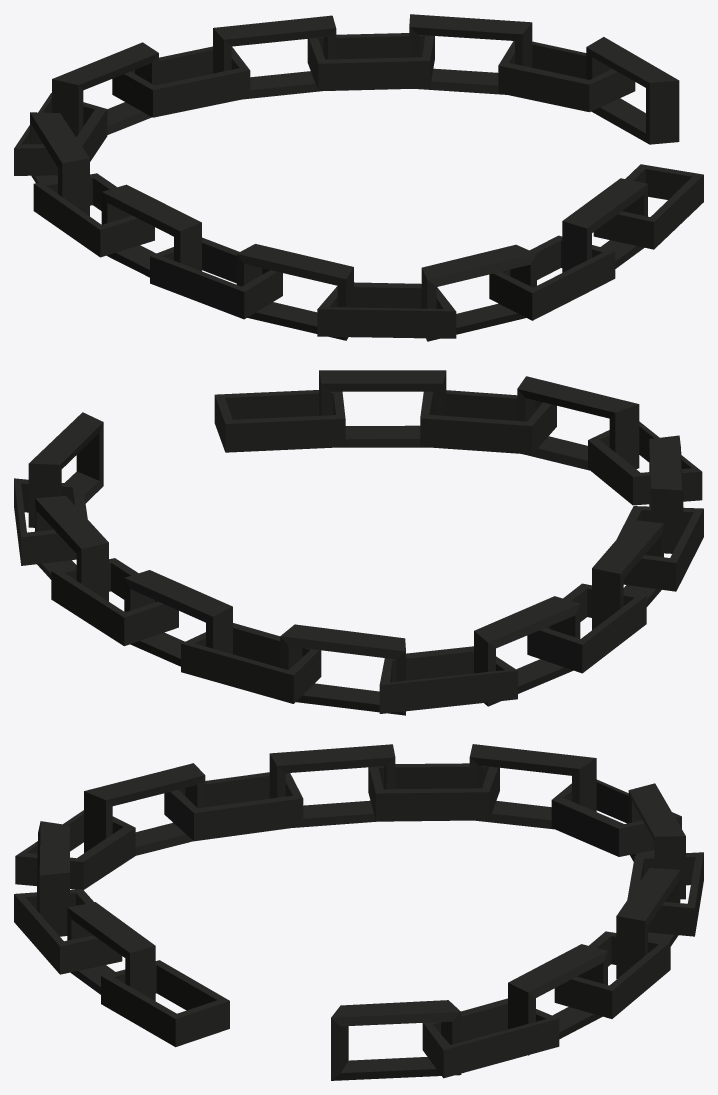
Rendered from Chain_01.fbx.
The picture shows the model from 3 angles, top to bottom: view 1: azimuth 30°, elevation 25°; view 2: azimuth 150°, elevation 25°; view 3: azimuth 270°, elevation 25°; orthographic projection. The views are drawn at different scales.
Visible parts, largest first — view 1: Chain_01; view 2: Chain_01; view 3: Chain_01.
Part boxes in pixels (x1,y1,x2,y2): Chain_01: (14, 14, 703, 341); Chain_01: (14, 370, 703, 715); Chain_01: (14, 744, 703, 1080).
Size of the model in its own units: 26.41 by 2.71 by 26.82.
